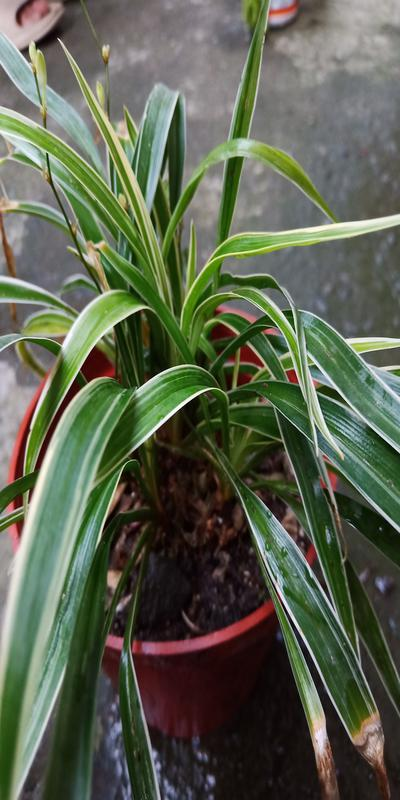Yellow and green leaf: (2, 192, 393, 659)
